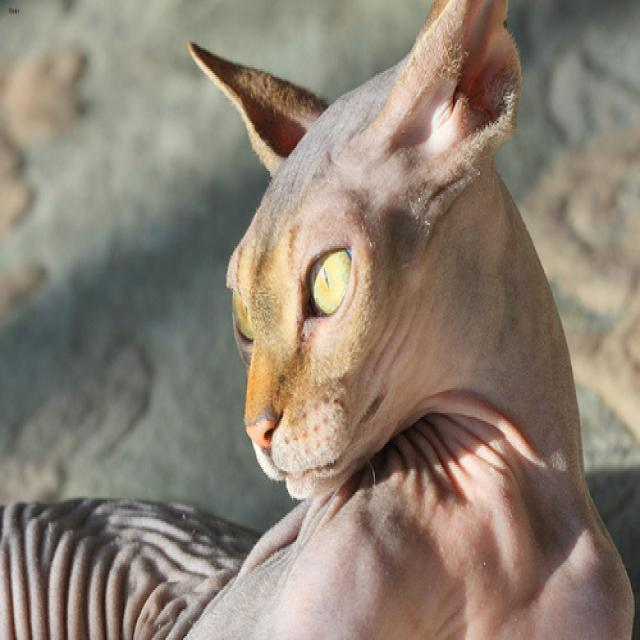cat: (187, 0, 520, 500)
